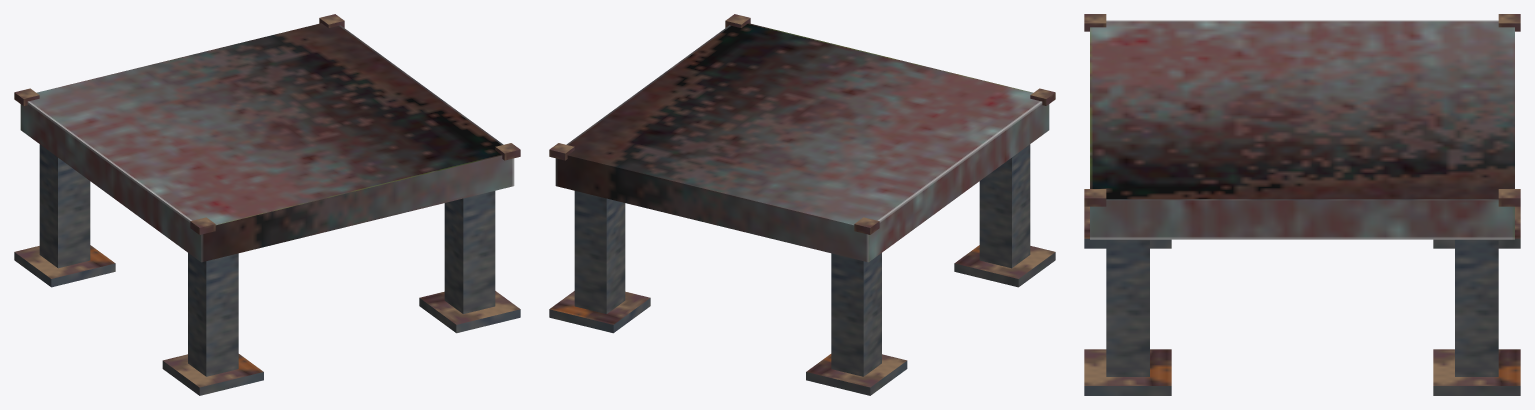
File: SM_PLATAFORMAMETAL_01.fbx
The picture shows the model from 3 angles, left to right: view 1: azimuth 30°, elevation 25°; view 2: azimuth 150°, elevation 25°; view 3: azimuth 270°, elevation 25°; orthographic projection. The views are drawn at different scales.
Parts seen in each view (by area): view 1: SM_PLATAFORMAMETAL_01; view 2: SM_PLATAFORMAMETAL_01; view 3: SM_PLATAFORMAMETAL_01.
Boxes of the visible parts, x1,y1,x2,y2 form: SM_PLATAFORMAMETAL_01: (14, 14, 520, 395); SM_PLATAFORMAMETAL_01: (549, 14, 1055, 395); SM_PLATAFORMAMETAL_01: (1084, 14, 1520, 395).
Bounding box in the file's own units: 2 × 1 × 2.
